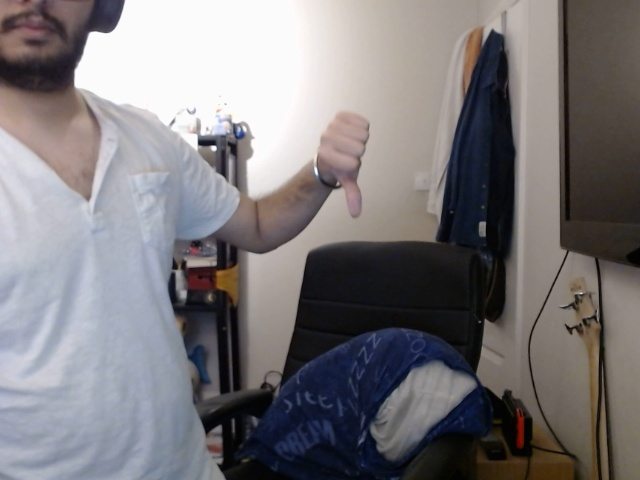Thumbs down: (312, 106, 380, 231)
